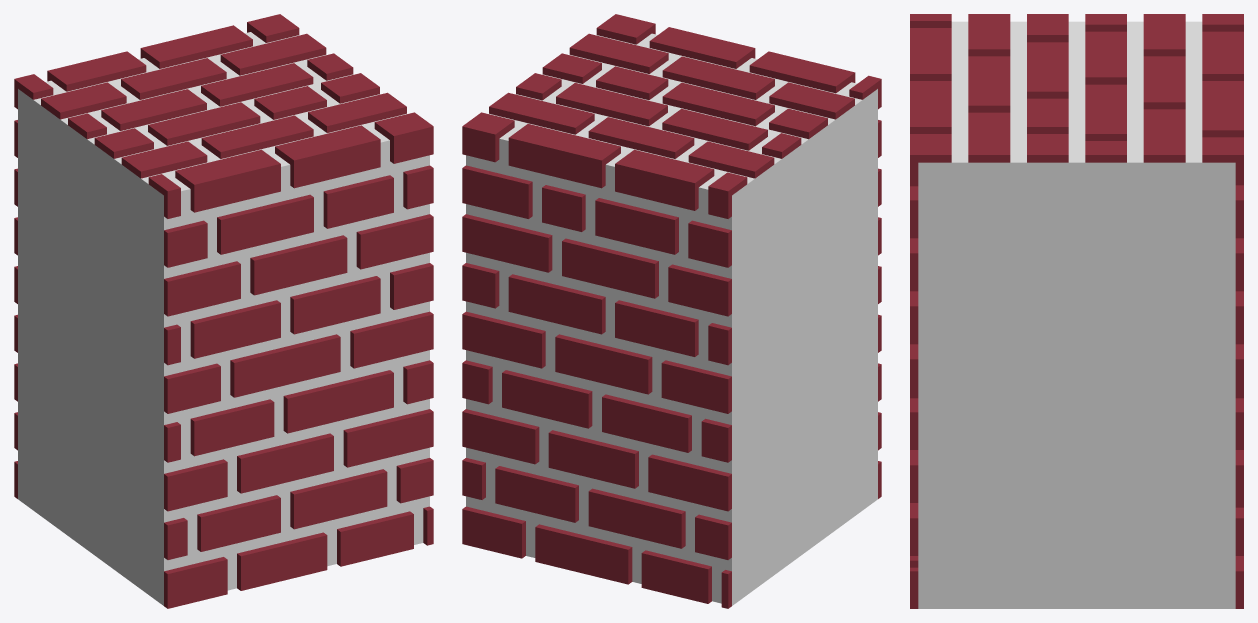
Rendered from Straight_Wall.obj.
The picture shows the model from 3 angles, left to right: view 1: azimuth 30°, elevation 25°; view 2: azimuth 150°, elevation 25°; view 3: azimuth 270°, elevation 25°; orthographic projection. The views are drawn at different scales.
Bounding box in the file's own units: 4 × 6 × 4.
1 material, 1 textured.
